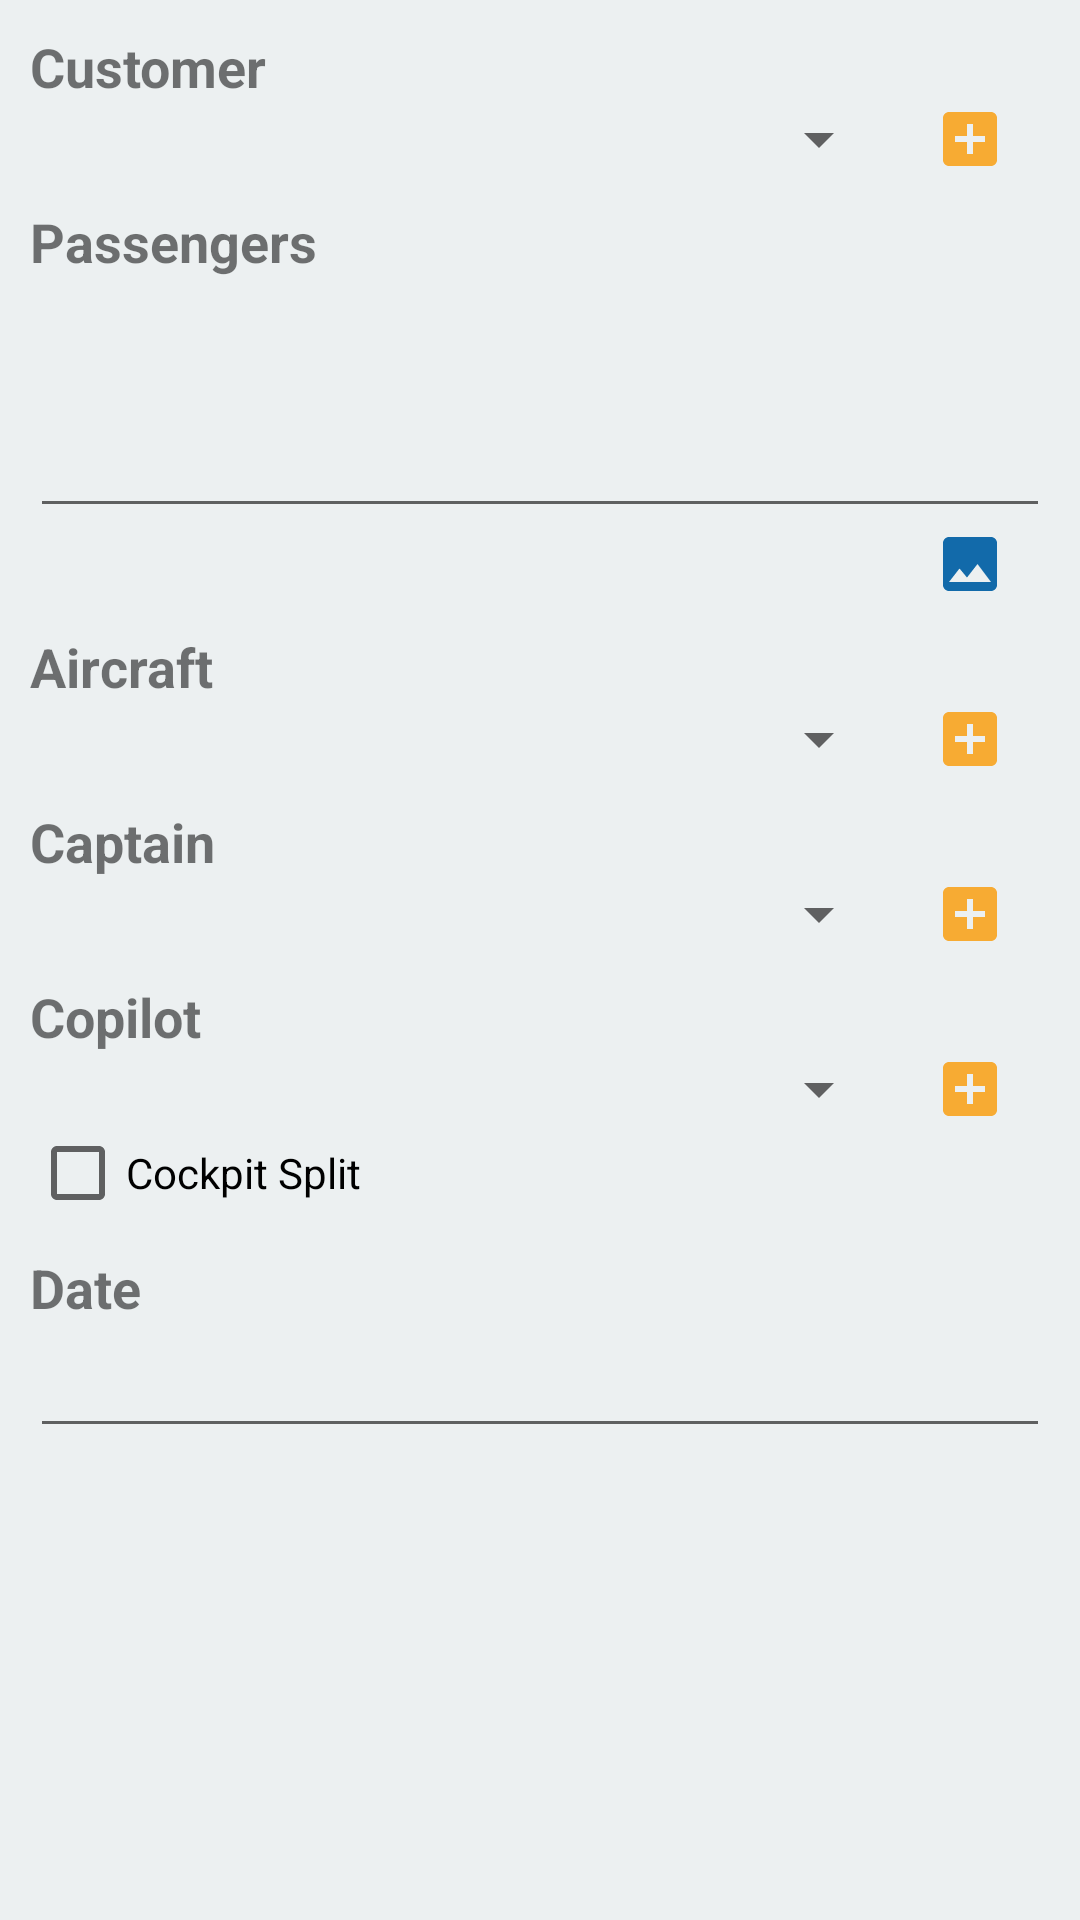

Where icons sit on this 1080 x 1920 app screen, as (x1, y1, x2, y2):
add box: (943, 112, 997, 166), (943, 712, 997, 766), (943, 887, 997, 941), (943, 1062, 997, 1116)
insert photo: (943, 537, 997, 591)
